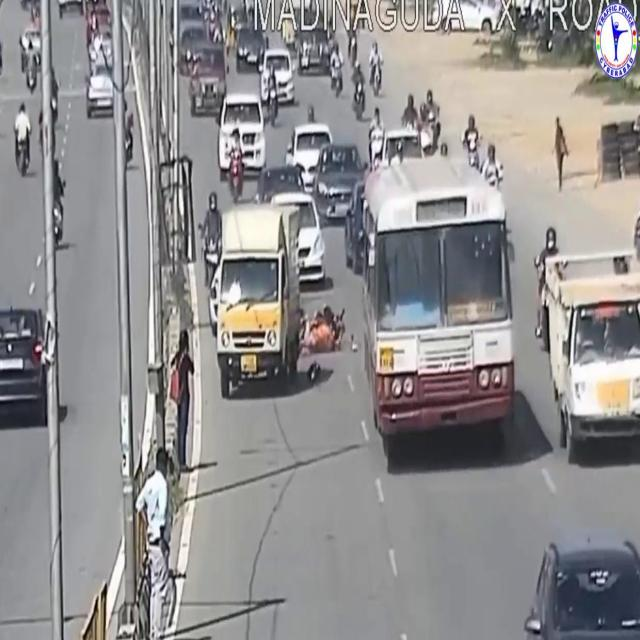accident: (213, 181, 351, 407)
non_accident: (167, 0, 329, 192), (53, 0, 115, 138)
